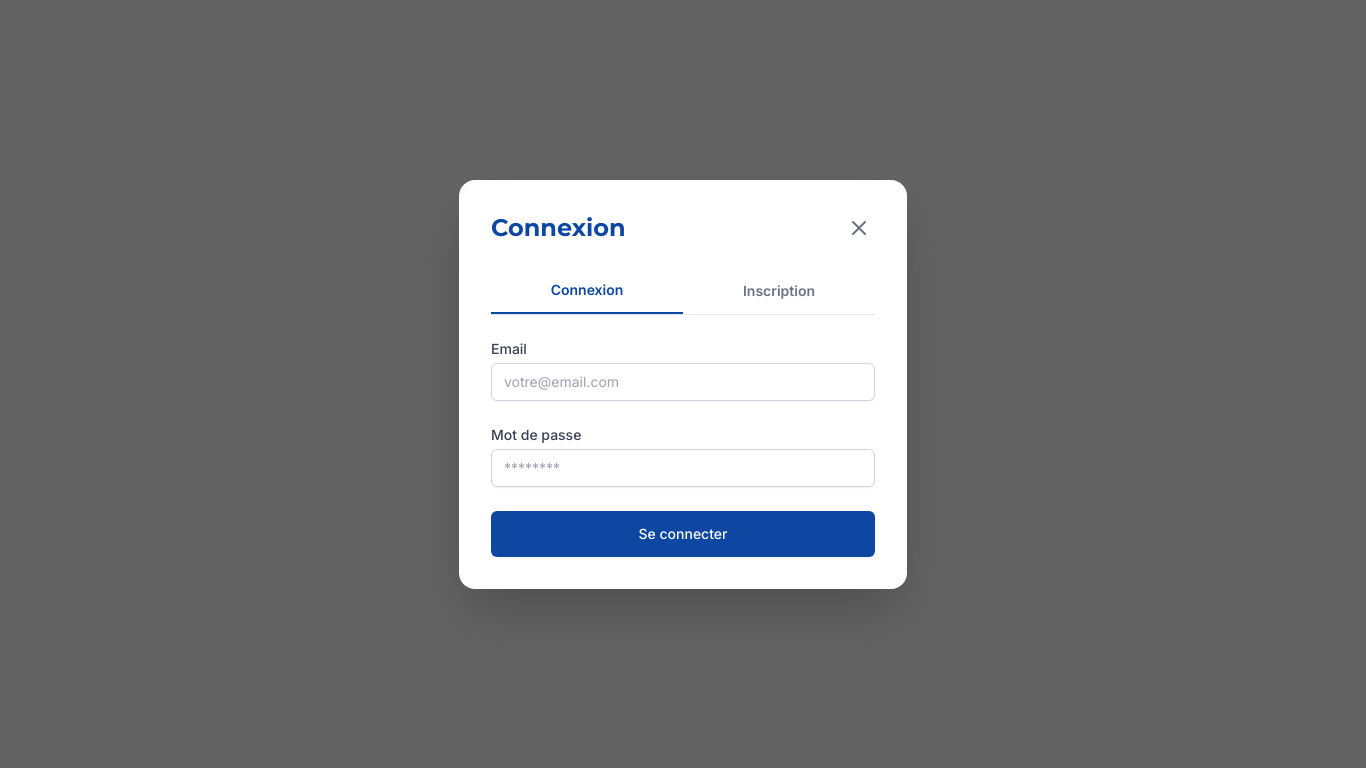
Scenario: AuthModal › doit afficher un message d'erreur en cas d'échec de la connexion
Type "wrong@test.com" into the field labelled "Email" at point(683, 382), box [491,362,875,400]
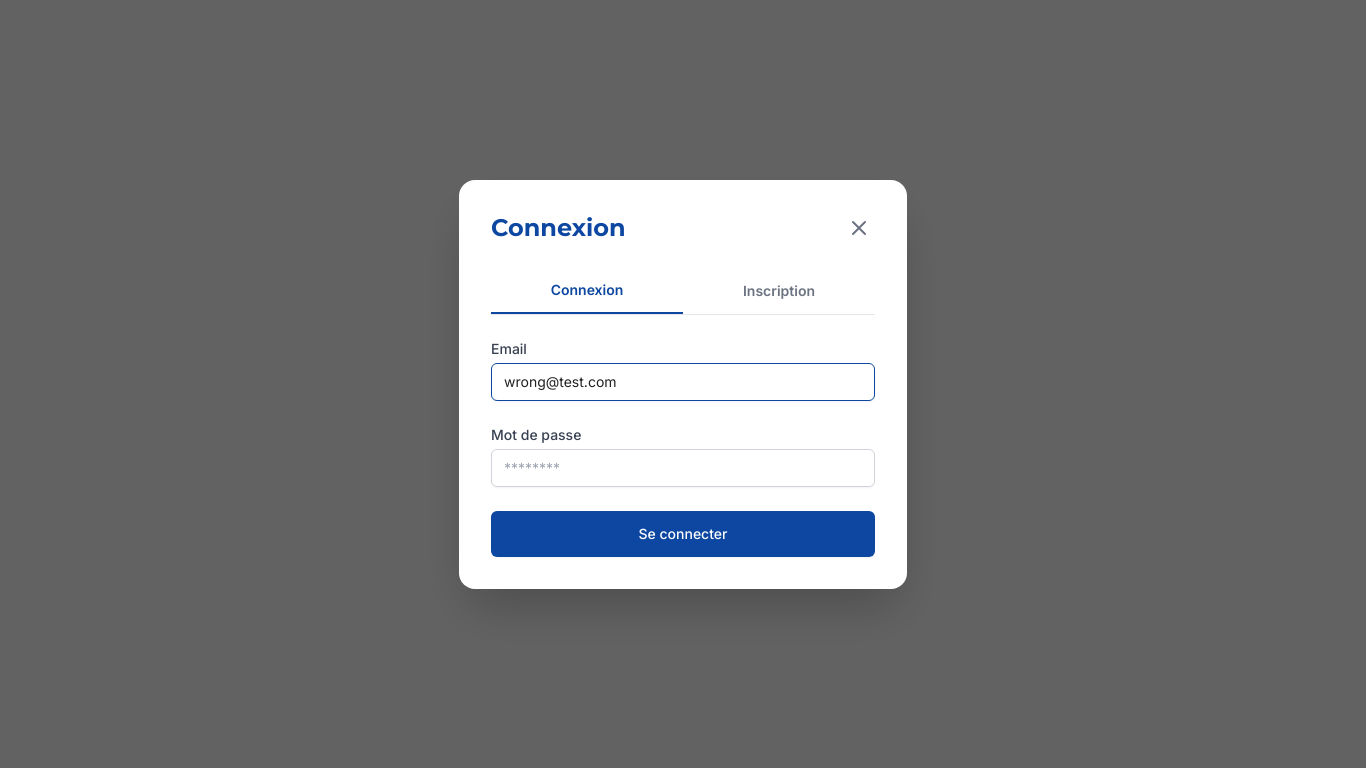
Type "wrongpassword" into the password field labelled "Mot de passe" at point(683, 468), box [491,448,875,486]
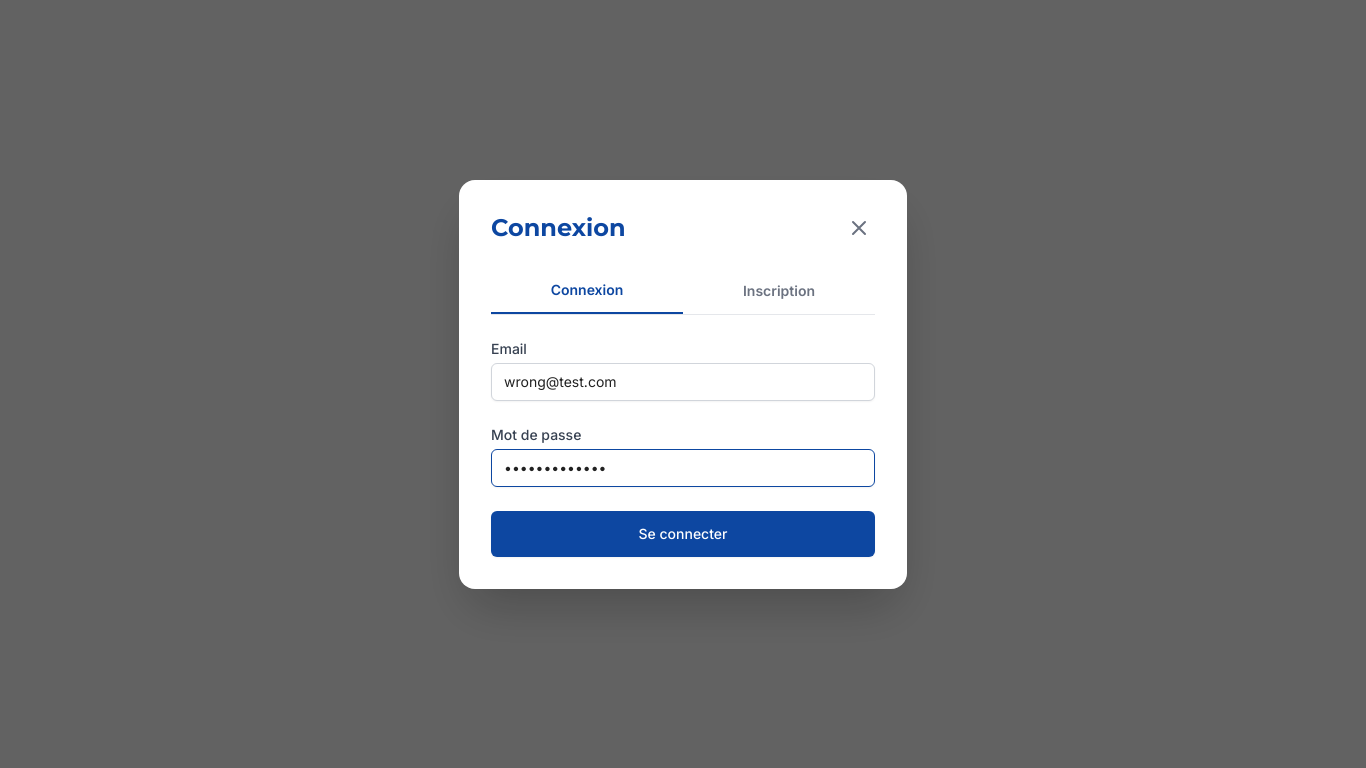
Click the button "Se connecter" at point(683, 534), box [491,510,875,556]
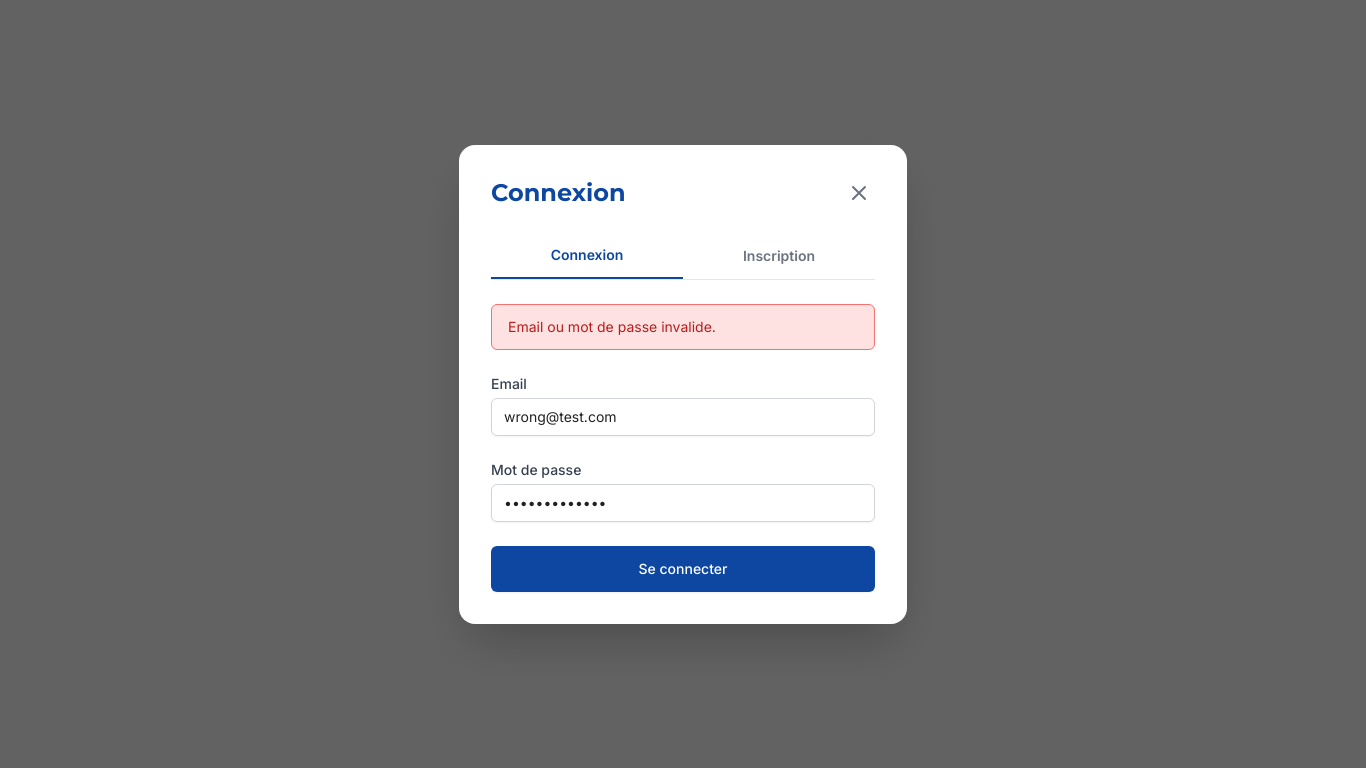
Expected: the text "Email ou mot de passe invalide." is shown, [491,304,875,350]
